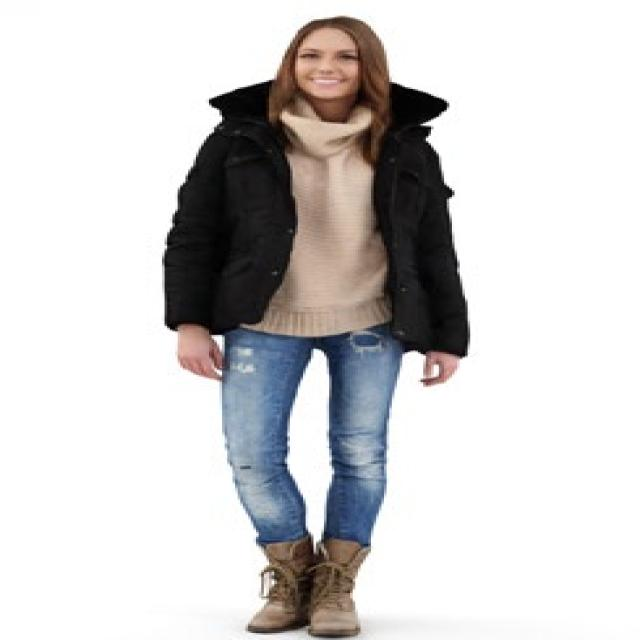standing: (163, 14, 472, 640)
